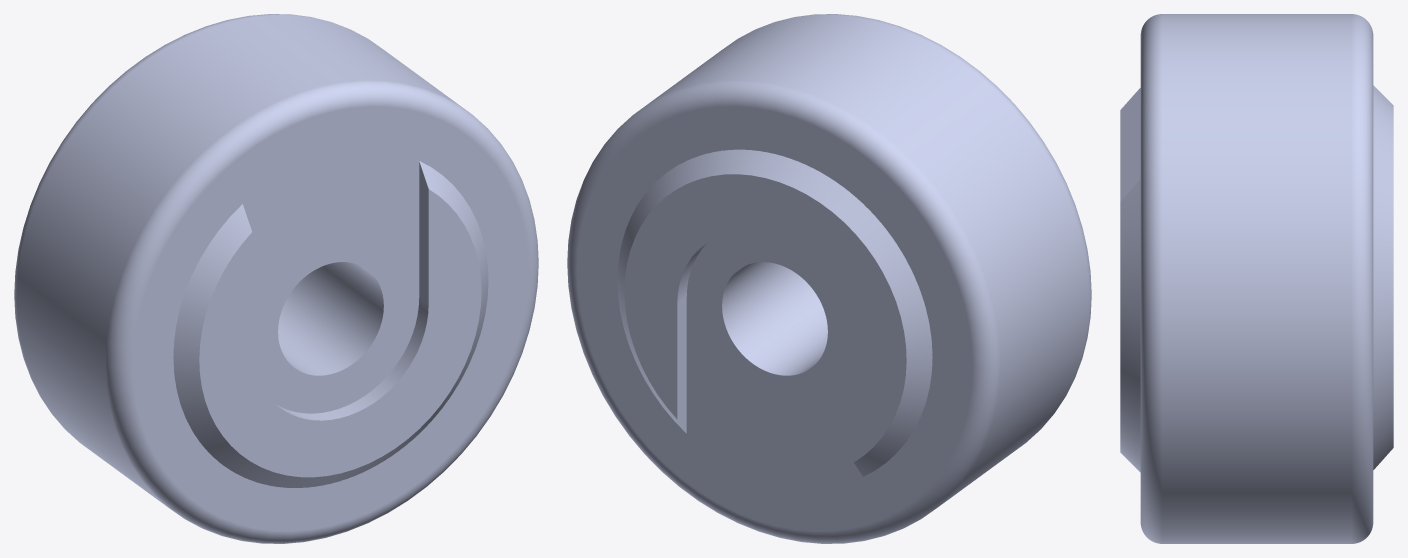
The picture shows the model from 3 angles, left to right: view 1: azimuth 30°, elevation 25°; view 2: azimuth 150°, elevation 25°; view 3: azimuth 270°, elevation 25°; orthographic projection. The views are drawn at different scales.
Parts seen in each view (by area): view 1: NAUO2, NAUO1; view 2: NAUO2, NAUO1; view 3: NAUO2, NAUO1.
Part boxes in pixels (bbox=[...]): NAUO2: bbox=[14, 14, 538, 543]; NAUO1: bbox=[173, 161, 488, 487]; NAUO2: bbox=[567, 14, 1091, 543]; NAUO1: bbox=[617, 149, 932, 476]; NAUO2: bbox=[1140, 14, 1373, 543]; NAUO1: bbox=[1120, 85, 1393, 472].
Size of the model in its own units: 0.0122 by 0.0122 by 0.00628.
